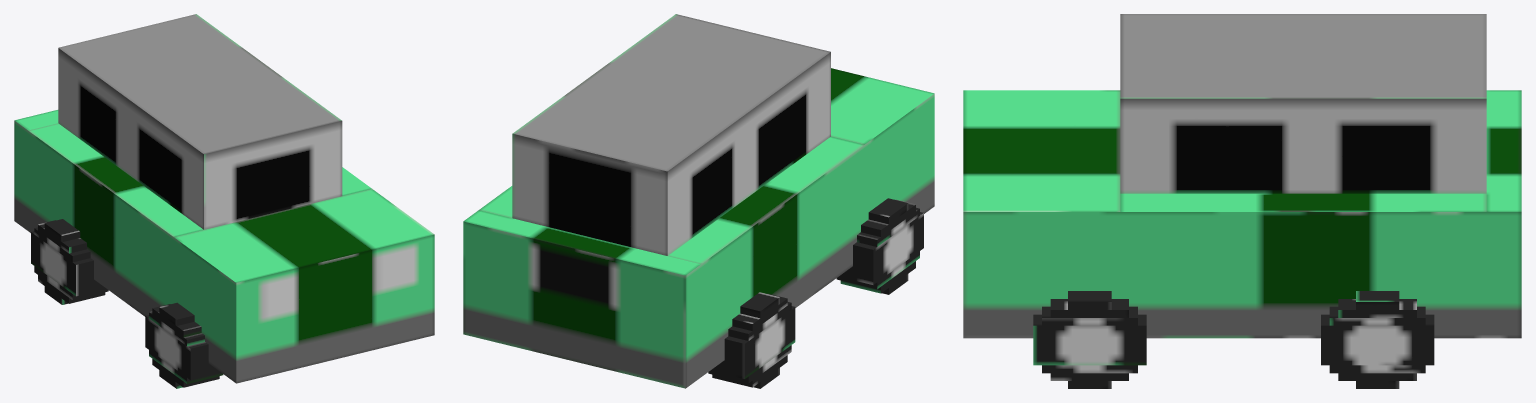
File: car_3.fbx
The picture shows the model from 3 angles, left to right: view 1: azimuth 30°, elevation 25°; view 2: azimuth 150°, elevation 25°; view 3: azimuth 270°, elevation 25°; orthographic projection. The views are drawn at different scales.
Visible parts, largest first — view 1: body, back_right_wheel, back_left_wheel; view 2: body, back_left_wheel, back_right_wheel; view 3: body, front_left_wheel, front_right_wheel.
Boxes of the visible parts, x1,y1,x2,y2 form: body: [14, 14, 434, 383]; back_right_wheel: [145, 302, 223, 388]; back_left_wheel: [31, 219, 108, 304]; body: [463, 14, 934, 388]; back_left_wheel: [708, 292, 795, 388]; back_right_wheel: [836, 198, 923, 294]; body: [963, 14, 1521, 338]; front_left_wheel: [1321, 291, 1434, 388]; front_right_wheel: [1033, 291, 1146, 388].
Bounding box in the file's own units: 39 × 33 × 64.
Materials: 1 (1 with a texture image).
